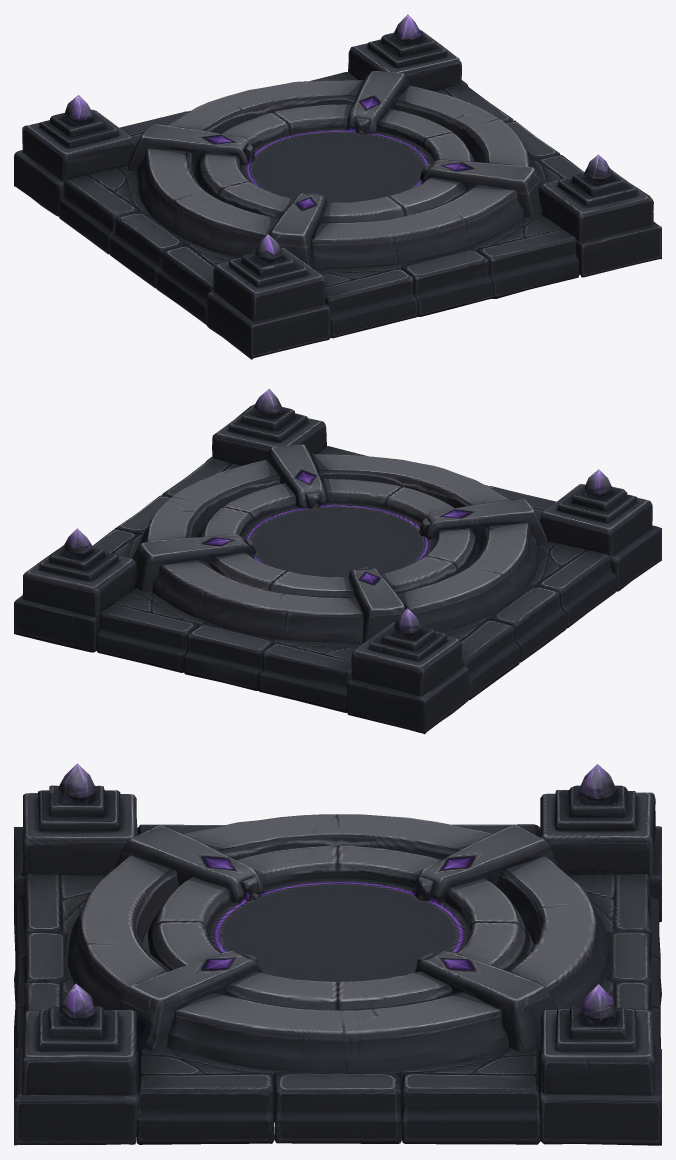
The model's file is void_arcane_nexus.glb.
The picture shows the model from 3 angles, top to bottom: view 1: azimuth 30°, elevation 25°; view 2: azimuth 150°, elevation 25°; view 3: azimuth 270°, elevation 25°; orthographic projection. The views are drawn at different scales.
Visible parts, largest first — view 1: mesh_node; view 2: mesh_node; view 3: mesh_node.
Boxes of the visible parts, <box> form: mesh_node: <box>14,14,661,359</box>; mesh_node: <box>14,388,661,734</box>; mesh_node: <box>14,763,661,1145</box>.
Size of the model in its own units: 1 by 0.231 by 1.
Materials: 1 (1 with a texture image).
